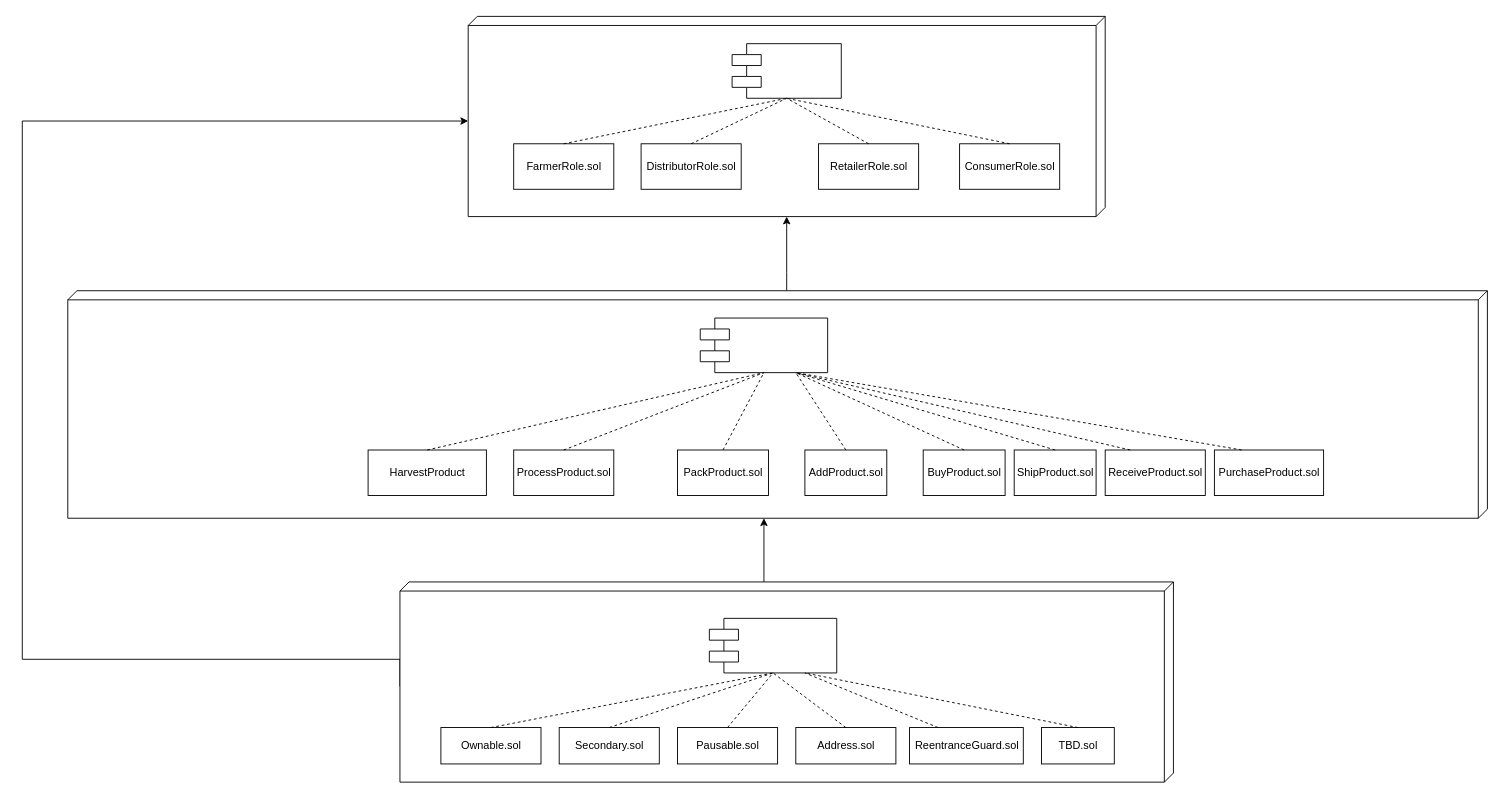
This 1503x798 diagram has some shape labels left out. The shapes that lost their labels are listed below. From the top down, each one's box as (x1, y1, x2, y2) in pixels, then its label:
(731, 43, 841, 98): Roles.sol
(467, 15, 1105, 217): DatesAccessControl
(699, 317, 828, 373): SupplyChain.sol
(67, 290, 1487, 518): DatesBase
(708, 617, 837, 673): ValueChain.sol
(399, 581, 1173, 782): DatesCore
